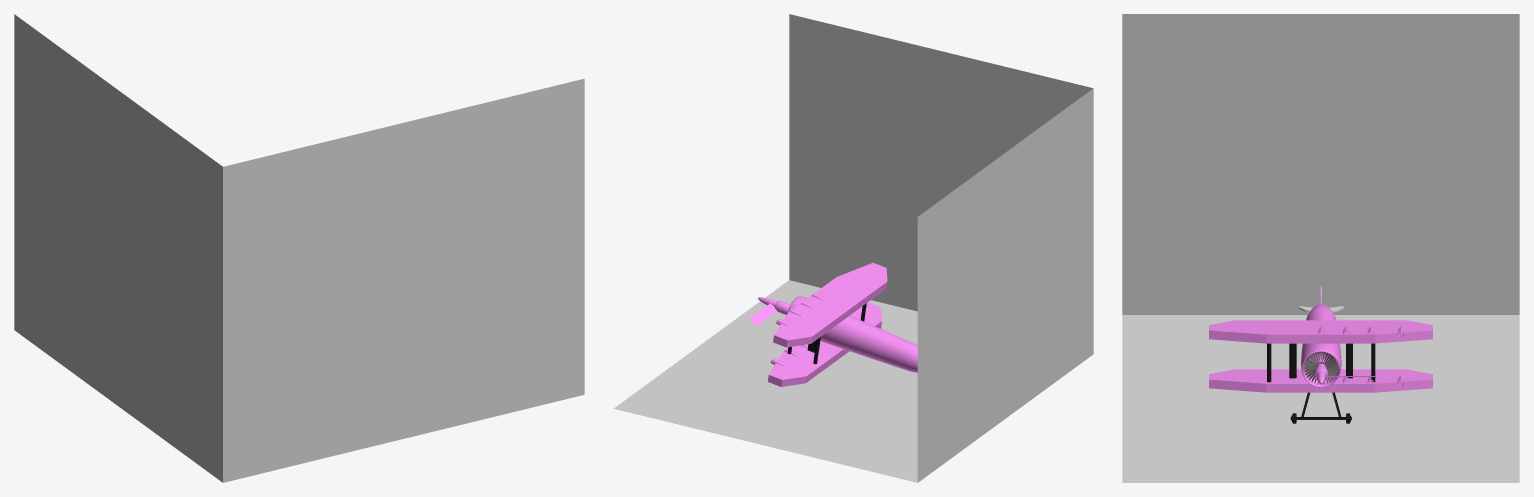
3 renders of one model, left to right at view 1: azimuth 30°, elevation 25°; view 2: azimuth 150°, elevation 25°; view 3: azimuth 270°, elevation 25°, orthographic. The views are drawn at different scales.
Visible parts, largest first — view 1: 平面.005; view 2: 平面.005, 平面.001, 圆环; view 3: 平面.005, 平面.001, 圆环, 圆环.001, 立方体, 圆环.002.
Boxes of the visible parts, left/top/right/bottom form: 平面.005: left=14, top=14, right=584, bottom=482; 平面.005: left=614, top=14, right=1093, bottom=482; 平面.001: left=767, top=263, right=887, bottom=386; 圆环: left=758, top=296, right=917, bottom=372; 平面.005: left=1122, top=14, right=1519, bottom=482; 平面.001: left=1209, top=320, right=1432, bottom=392; 圆环: left=1301, top=303, right=1341, bottom=387; 圆环.001: left=1304, top=352, right=1338, bottom=385; 立方体: left=1289, top=343, right=1352, bottom=378; 圆环.002: left=1290, top=392, right=1351, bottom=423.
Bounding box in the file's own units: 16.18 × 13.52 × 16.18.
